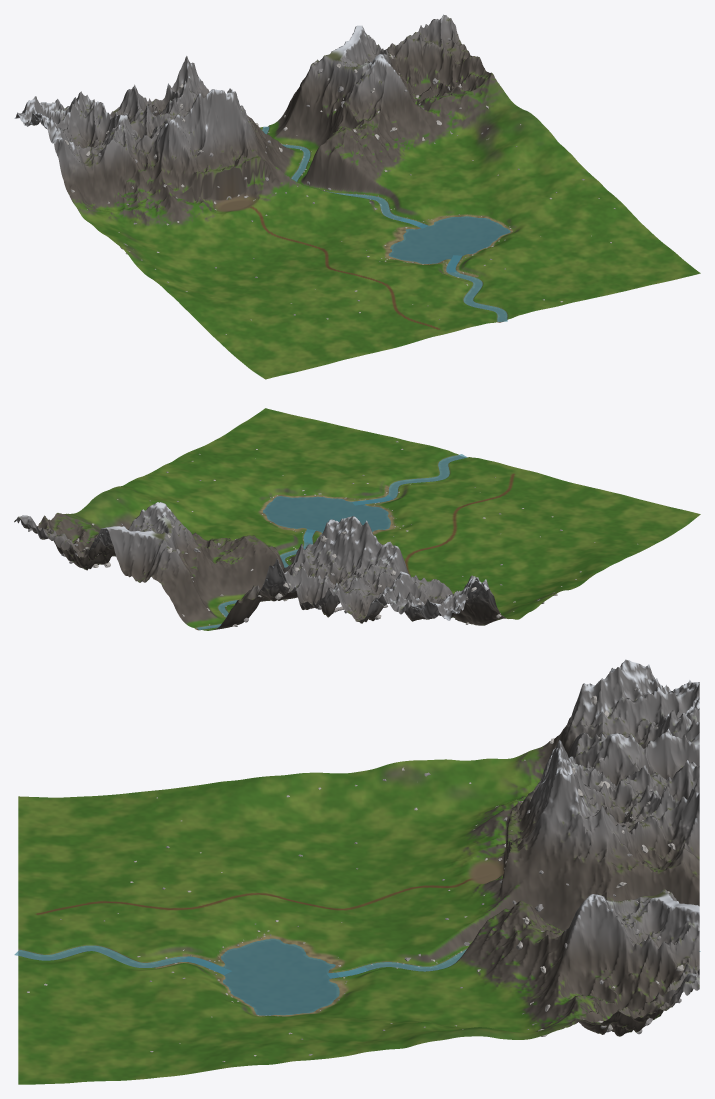
Rendered from 9dyYXNPvVWaFtmDJtLAxkITsrDNmjPHRqksimGZAjHQjjYhrm.fbx.
3 renders of one model, top to bottom at view 1: azimuth 30°, elevation 25°; view 2: azimuth 150°, elevation 25°; view 3: azimuth 270°, elevation 25°, orthographic. The views are drawn at different scales.
Visible parts, largest first — view 1: Terrain_Tile_11, Terrain_Tile_01, Terrain_Tile_10, Terrain_Tile_00, Water_Lake, Water_River_Upper, Water_River_Lower; view 2: Terrain_Tile_00, Terrain_Tile_10, Terrain_Tile_11, Terrain_Tile_01, Water_Lake, Water_River_Lower, Water_River_Upper; view 3: Terrain_Tile_01, Terrain_Tile_00, Terrain_Tile_10, Terrain_Tile_11, Water_Lake, Water_River_Lower, Water_River_Upper.
Boxes of the visible parts, x1,y1,x2,y2 form: Terrain_Tile_11: (260, 14, 574, 230); Terrain_Tile_01: (14, 56, 356, 271); Terrain_Tile_10: (358, 158, 700, 324); Terrain_Tile_00: (140, 231, 482, 379); Water_Lake: (388, 216, 510, 272); Water_River_Upper: (262, 126, 426, 227); Water_River_Lower: (447, 256, 507, 321); Terrain_Tile_00: (376, 459, 700, 590); Terrain_Tile_10: (140, 408, 482, 540); Terrain_Tile_11: (14, 477, 315, 630); Terrain_Tile_01: (232, 516, 574, 625); Water_Lake: (263, 494, 393, 542); Water_River_Lower: (353, 454, 467, 504); Water_River_Upper: (197, 530, 315, 629); Terrain_Tile_01: (359, 659, 699, 935); Terrain_Tile_00: (18, 771, 358, 938); Terrain_Tile_10: (18, 932, 358, 1084); Terrain_Tile_11: (359, 889, 699, 1053); Water_Lake: (180, 938, 367, 1015); Water_River_Lower: (14, 945, 230, 974); Water_River_Upper: (328, 949, 700, 977).
Bounding box in the file's own units: 70000 × 17028 × 70578.
